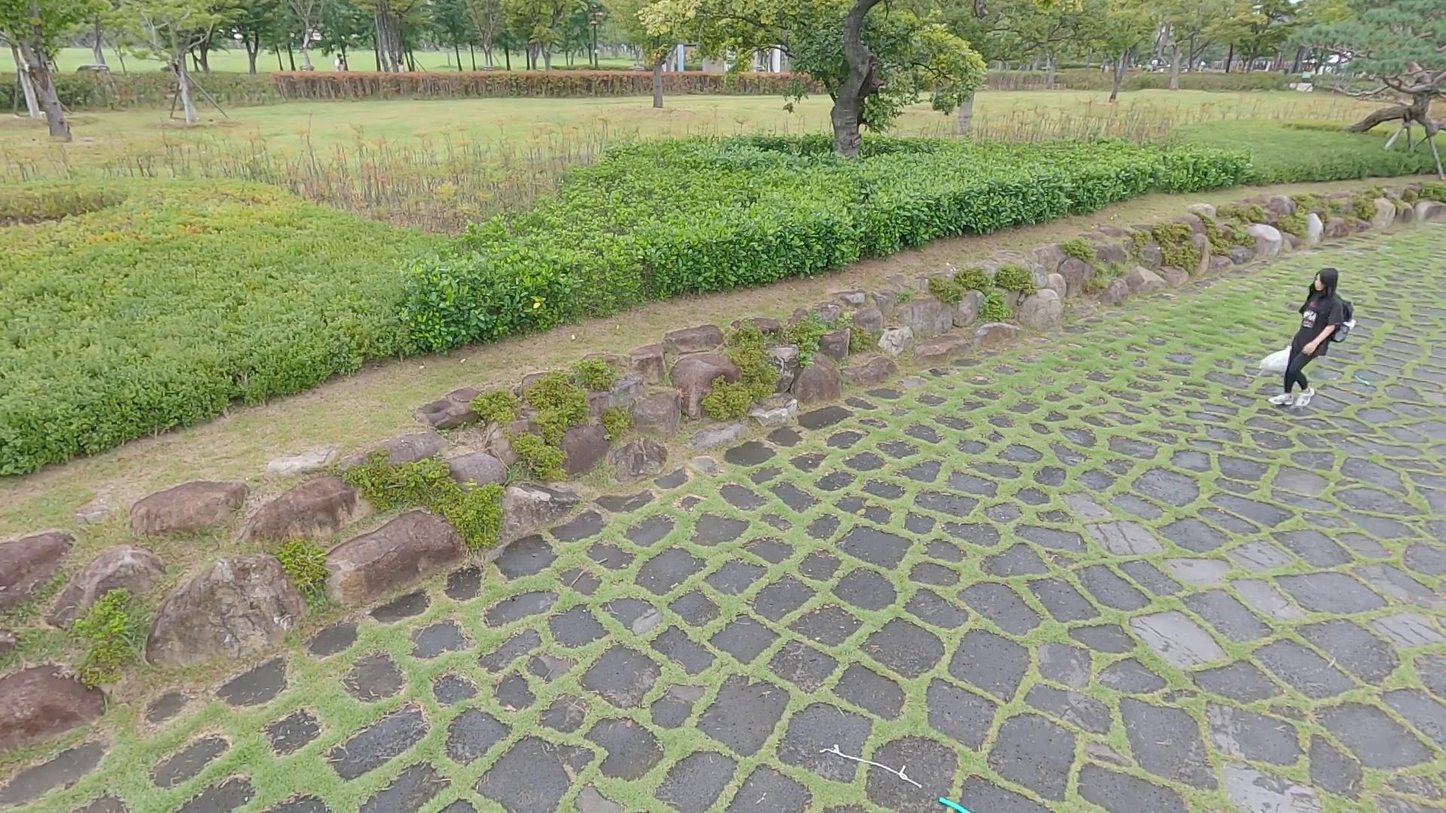person: (1268, 260, 1362, 417)
trash: (1259, 338, 1293, 376)
